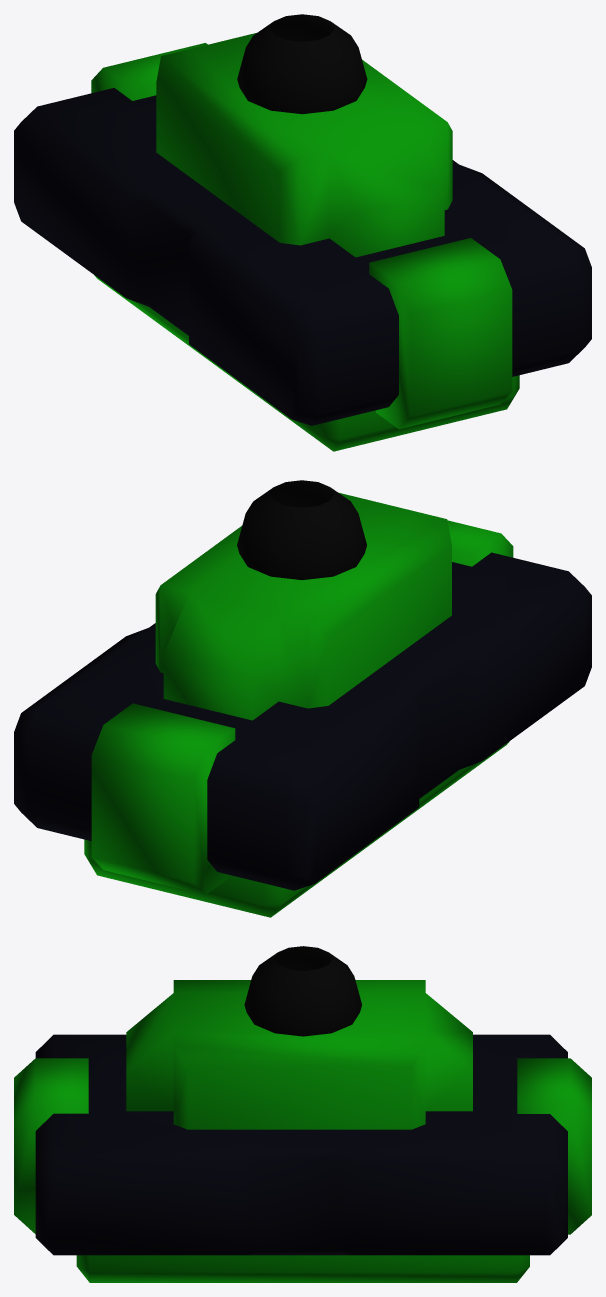
Rendered from 3D_CannonSimple_Frame_MESH.fbx.
The picture shows the model from 3 angles, top to bottom: view 1: azimuth 30°, elevation 25°; view 2: azimuth 150°, elevation 25°; view 3: azimuth 270°, elevation 25°; orthographic projection. The views are drawn at different scales.
Parts seen in each view (by area): view 1: 3D_CannonSimple_Frame_MESH; view 2: 3D_CannonSimple_Frame_MESH; view 3: 3D_CannonSimple_Frame_MESH.
Part boxes in pixels (x1,y1,x2,y2): 3D_CannonSimple_Frame_MESH: [14, 14, 591, 451]; 3D_CannonSimple_Frame_MESH: [14, 480, 591, 917]; 3D_CannonSimple_Frame_MESH: [14, 946, 591, 1282].
Size of the model in its own units: 80.97 by 83.35 by 153.
